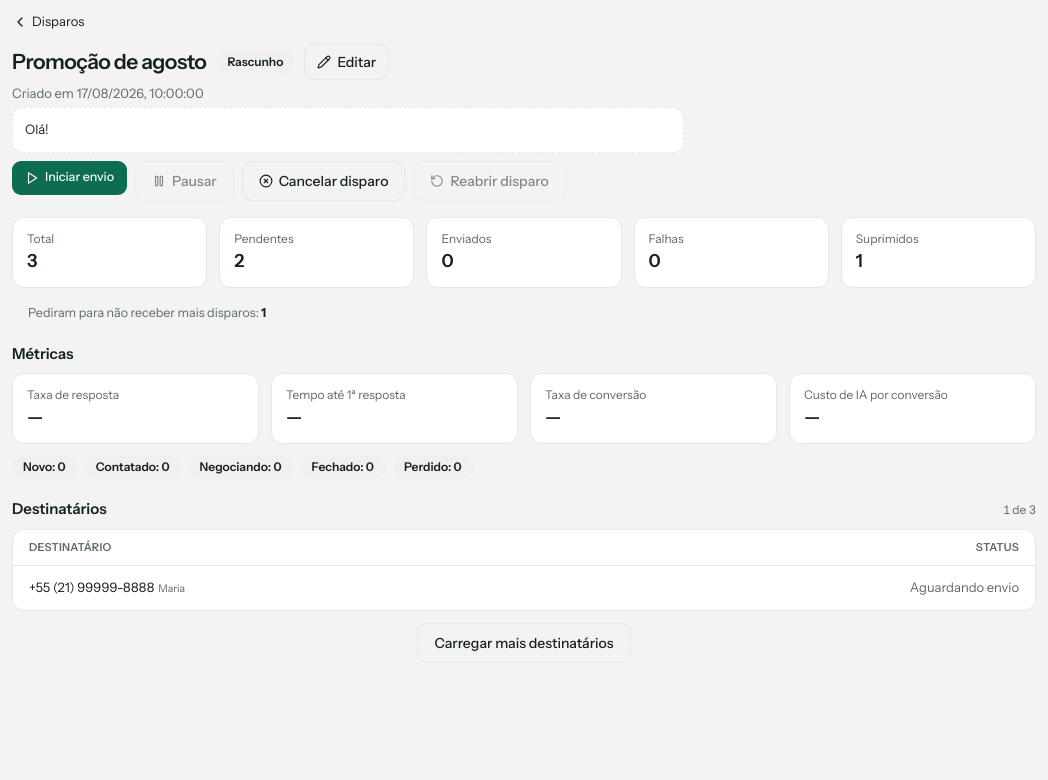
CampaignDetailPanel (Fase L, Bloco L4) › paginação dos destinatários › acumula a página seguinte ao clicar em "Carregar mais destinatários"
Expected: the heading "Promoção de agosto" is shown, [12,46,206,78]
Click the button "Carregar mais destinatários": (524, 643) [418,623,630,663]
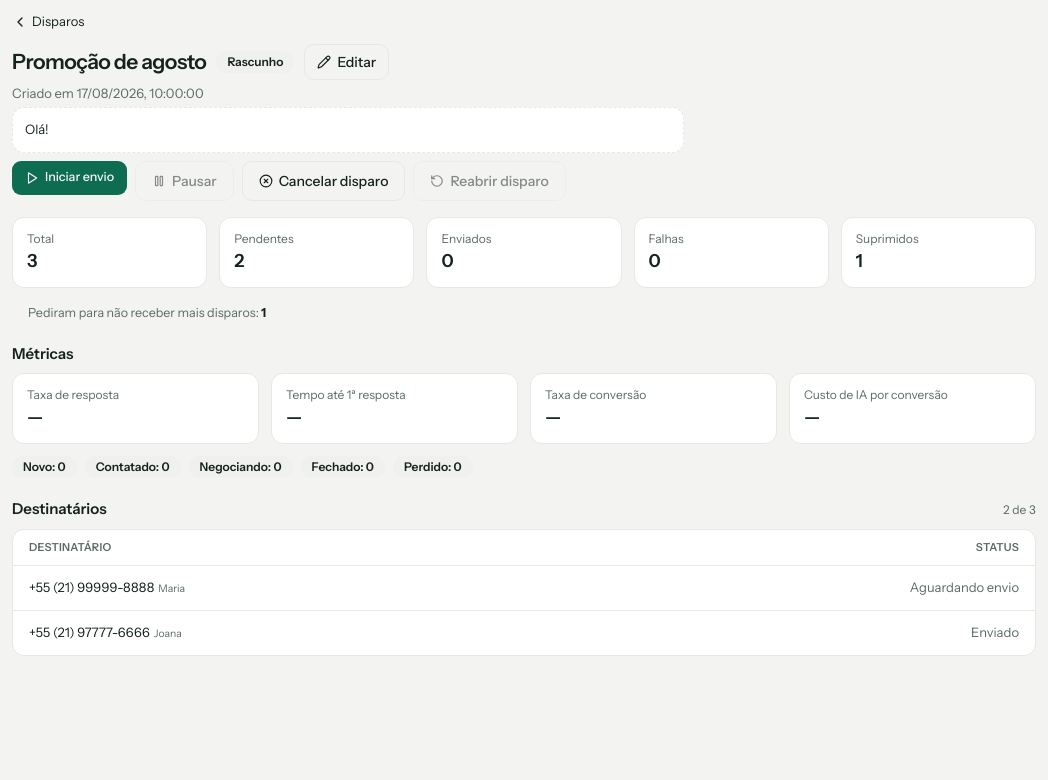
Expected: the text "Maria" is shown, [158,582,185,595]
Now the text "Joana" is shown, box [154,627,182,640]
Now the button "Carregar mais destinatários" is gone
